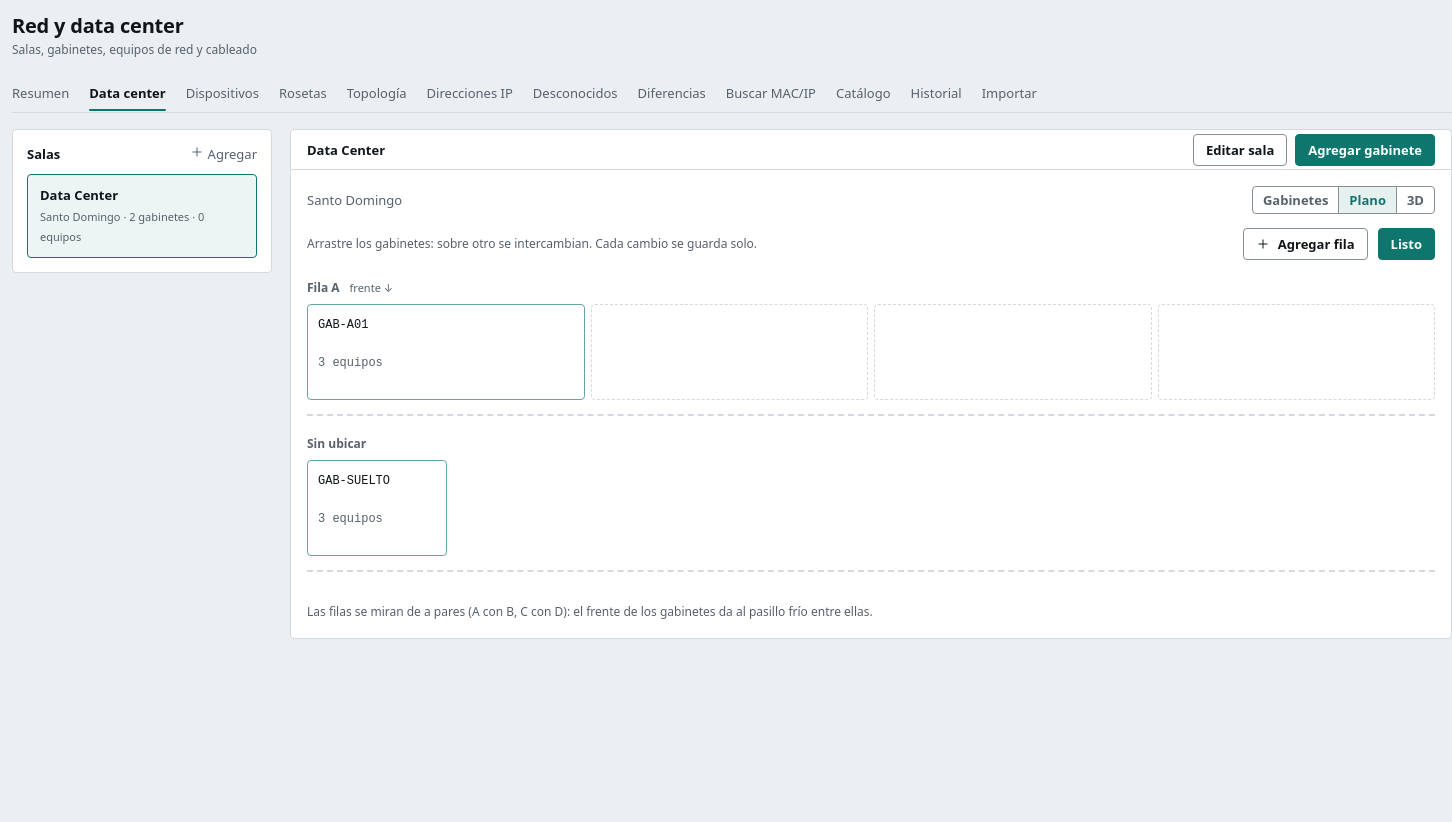
it: editar la sala (decisión 96) › en el plano, soltar un gabinete en otro lugar guarda el plano
Earlier steps of the test are not shown.
Click the button "Agregar fila" at (1305, 244), box [1243, 228, 1368, 260]
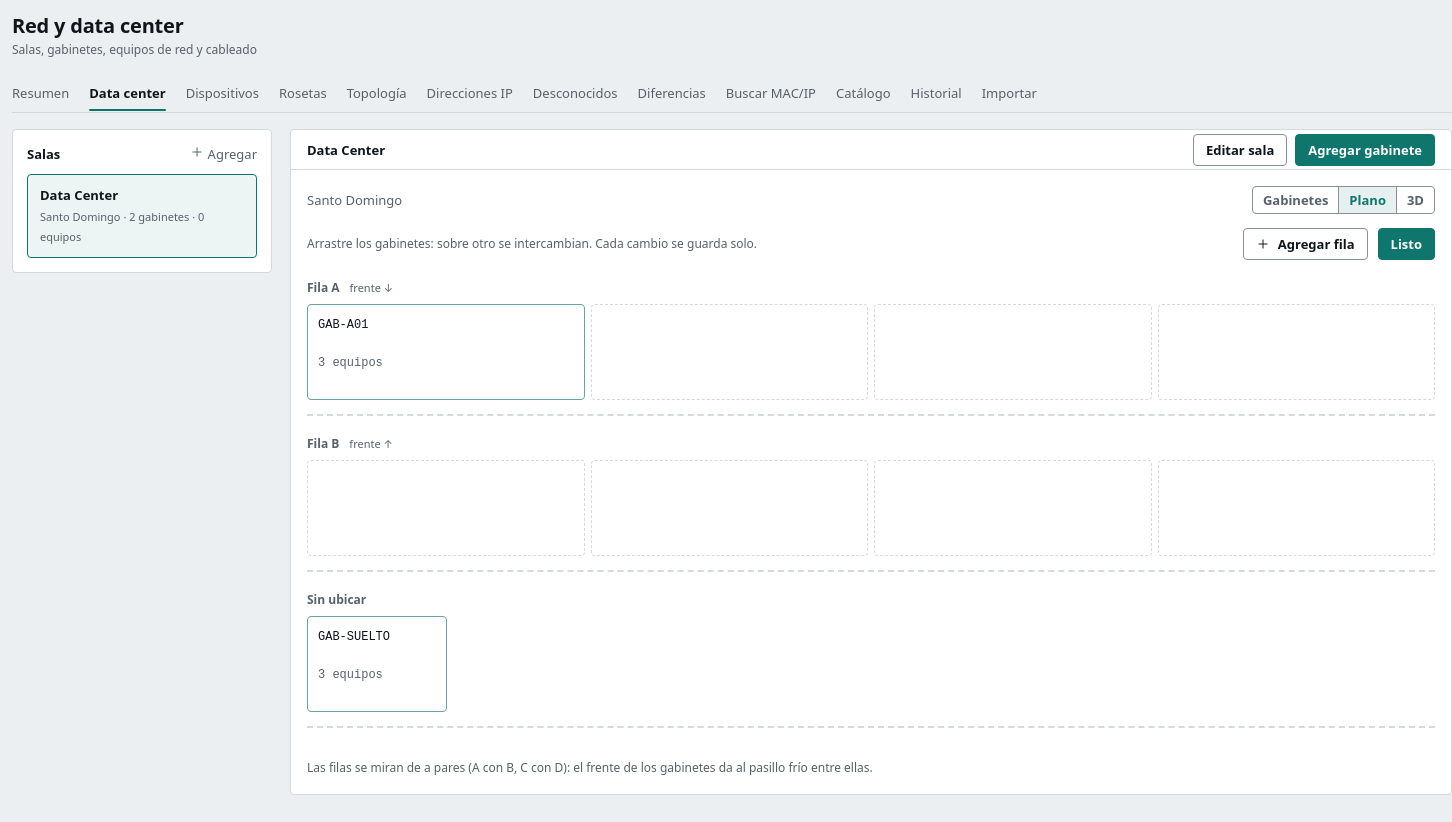
Expected: the text "Fila B" is shown, [307, 435, 393, 452]
